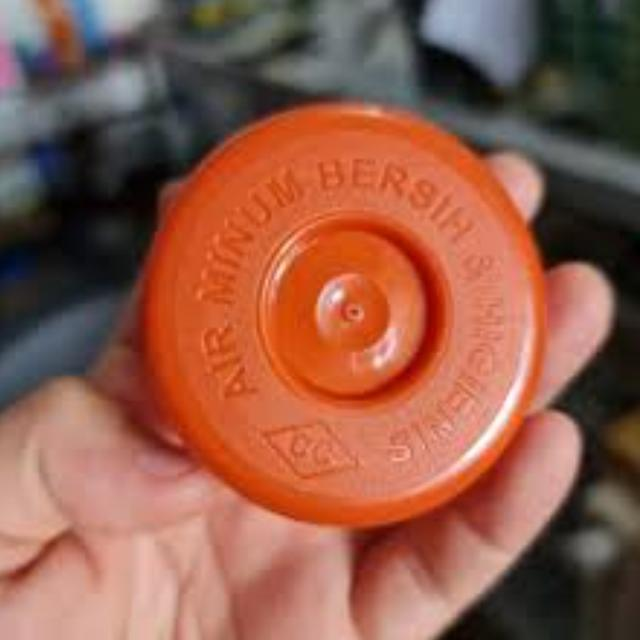TutupGalon: (133, 102, 546, 518)
